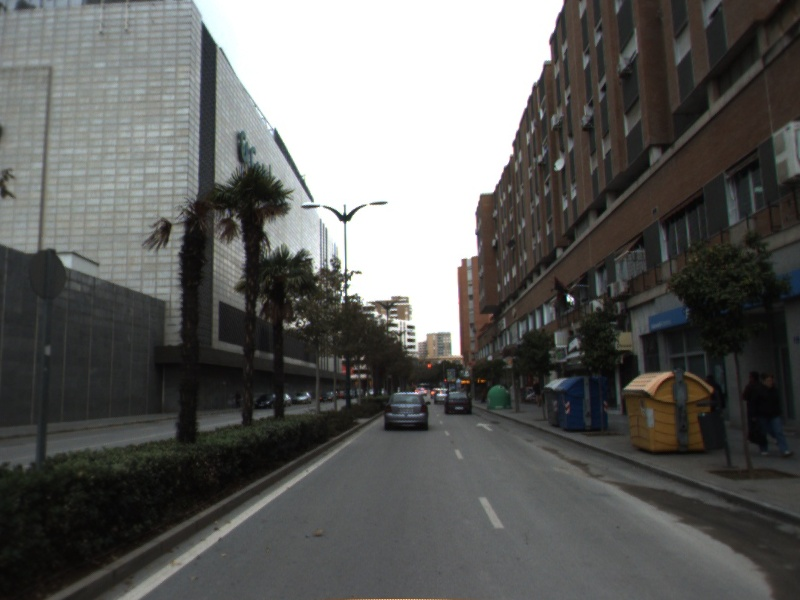STRAIGHT: (473, 421, 496, 433)
